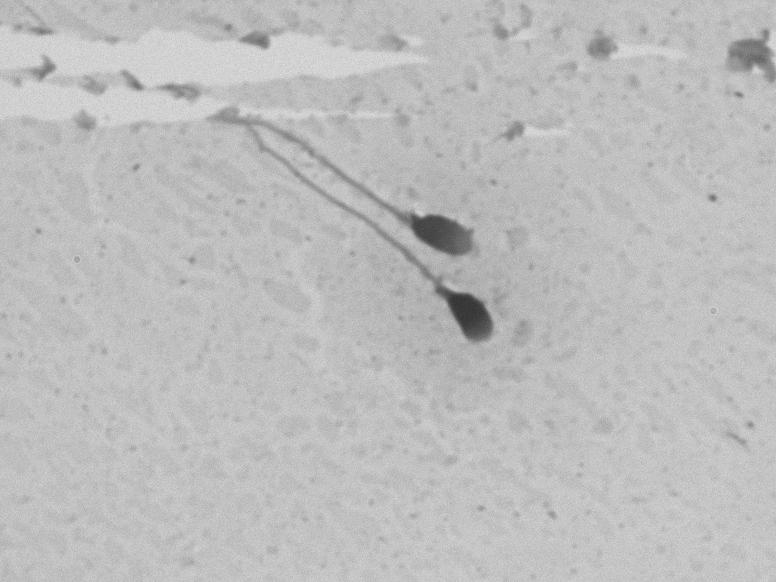Abnormal: (206, 69, 512, 374)
